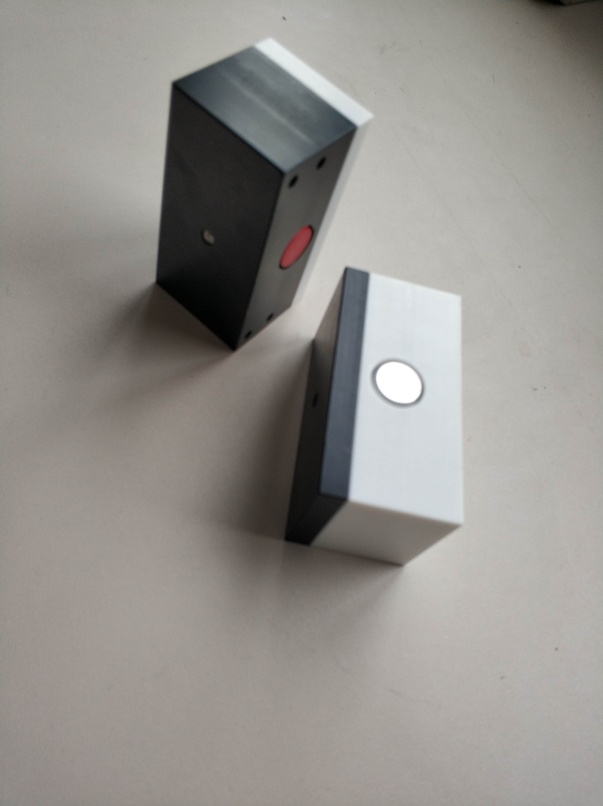black+white+silver: (282, 265, 468, 568)
white+black+red: (154, 35, 378, 359)
